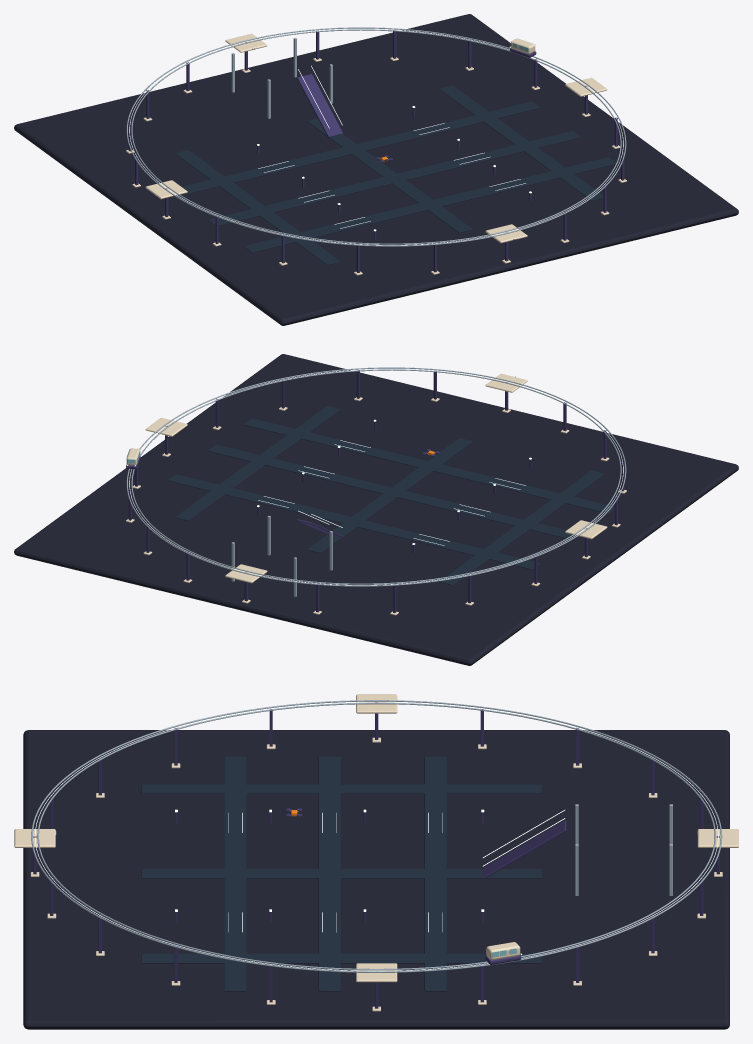
Rendered from transport.glb.
3 renders of one model, top to bottom at view 1: azimuth 30°, elevation 25°; view 2: azimuth 150°, elevation 25°; view 3: azimuth 270°, elevation 25°, orthographic. The views are drawn at different scales.
Visible parts, largest first — view 1: Batch_KROQUETITA__Ciudad_completa_CITY / charcoal, Batch_KROQUETITA__Ciudad_completa_CITY / polished basalt, Batch_KROQUETITA__Ciudad_completa_CITY / metal, Batch_KROQUETITA__Ciudad_completa_CITY / purple, Batch_KROQUETITA__Ciudad_completa_CITY / cream, Batch_KROQUETITA__Ciudad_completa_CITY / light; view 2: Batch_KROQUETITA__Ciudad_completa_CITY / charcoal, Batch_KROQUETITA__Ciudad_completa_CITY / polished basalt, Batch_KROQUETITA__Ciudad_completa_CITY / metal, Batch_KROQUETITA__Ciudad_completa_CITY / purple, Batch_KROQUETITA__Ciudad_completa_CITY / cream, Batch_KROQUETITA__Ciudad_completa_CITY / light; view 3: Batch_KROQUETITA__Ciudad_completa_CITY / charcoal, Batch_KROQUETITA__Ciudad_completa_CITY / polished basalt, Batch_KROQUETITA__Ciudad_completa_CITY / metal, Batch_KROQUETITA__Ciudad_completa_CITY / purple, Batch_KROQUETITA__Ciudad_completa_CITY / cream, Batch_KROQUETITA__Ciudad_completa_CITY / light.
Part boxes in pixels (x1,y1,x2,y2): Batch_KROQUETITA__Ciudad_completa_CITY / charcoal: (14, 14, 738, 325); Batch_KROQUETITA__Ciudad_completa_CITY / polished basalt: (174, 85, 615, 265); Batch_KROQUETITA__Ciudad_completa_CITY / metal: (126, 27, 626, 246); Batch_KROQUETITA__Ciudad_completa_CITY / purple: (128, 30, 624, 272); Batch_KROQUETITA__Ciudad_completa_CITY / cream: (126, 33, 626, 275); Batch_KROQUETITA__Ciudad_completa_CITY / light: (129, 28, 623, 245); Batch_KROQUETITA__Ciudad_completa_CITY / charcoal: (14, 354, 738, 665); Batch_KROQUETITA__Ciudad_completa_CITY / polished basalt: (167, 405, 614, 585); Batch_KROQUETITA__Ciudad_completa_CITY / metal: (126, 367, 626, 596); Batch_KROQUETITA__Ciudad_completa_CITY / purple: (128, 370, 624, 612); Batch_KROQUETITA__Ciudad_completa_CITY / cream: (126, 373, 626, 615); Batch_KROQUETITA__Ciudad_completa_CITY / light: (129, 368, 623, 585); Batch_KROQUETITA__Ciudad_completa_CITY / charcoal: (23, 730, 729, 1029); Batch_KROQUETITA__Ciudad_completa_CITY / polished basalt: (141, 756, 541, 991); Batch_KROQUETITA__Ciudad_completa_CITY / metal: (31, 700, 722, 972); Batch_KROQUETITA__Ciudad_completa_CITY / purple: (33, 702, 719, 1008); Batch_KROQUETITA__Ciudad_completa_CITY / cream: (14, 694, 738, 1011); Batch_KROQUETITA__Ciudad_completa_CITY / light: (34, 702, 718, 971).
Size of the model in its own units: 59 by 6.6 by 61.54.
